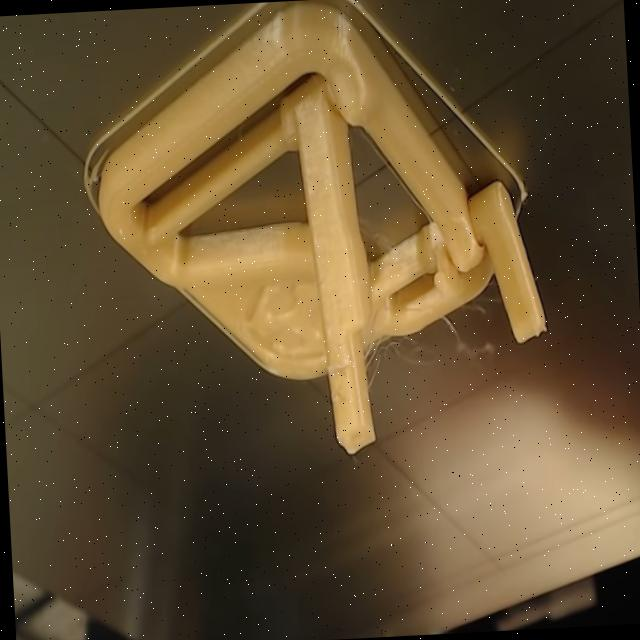stringing: (354, 284, 492, 398)
